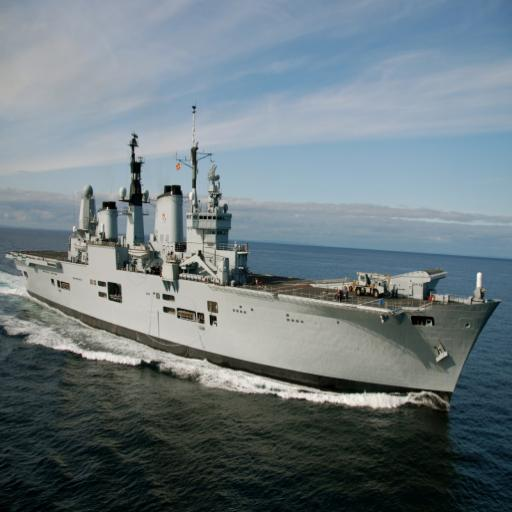Portanaves: (6, 86, 502, 418)
